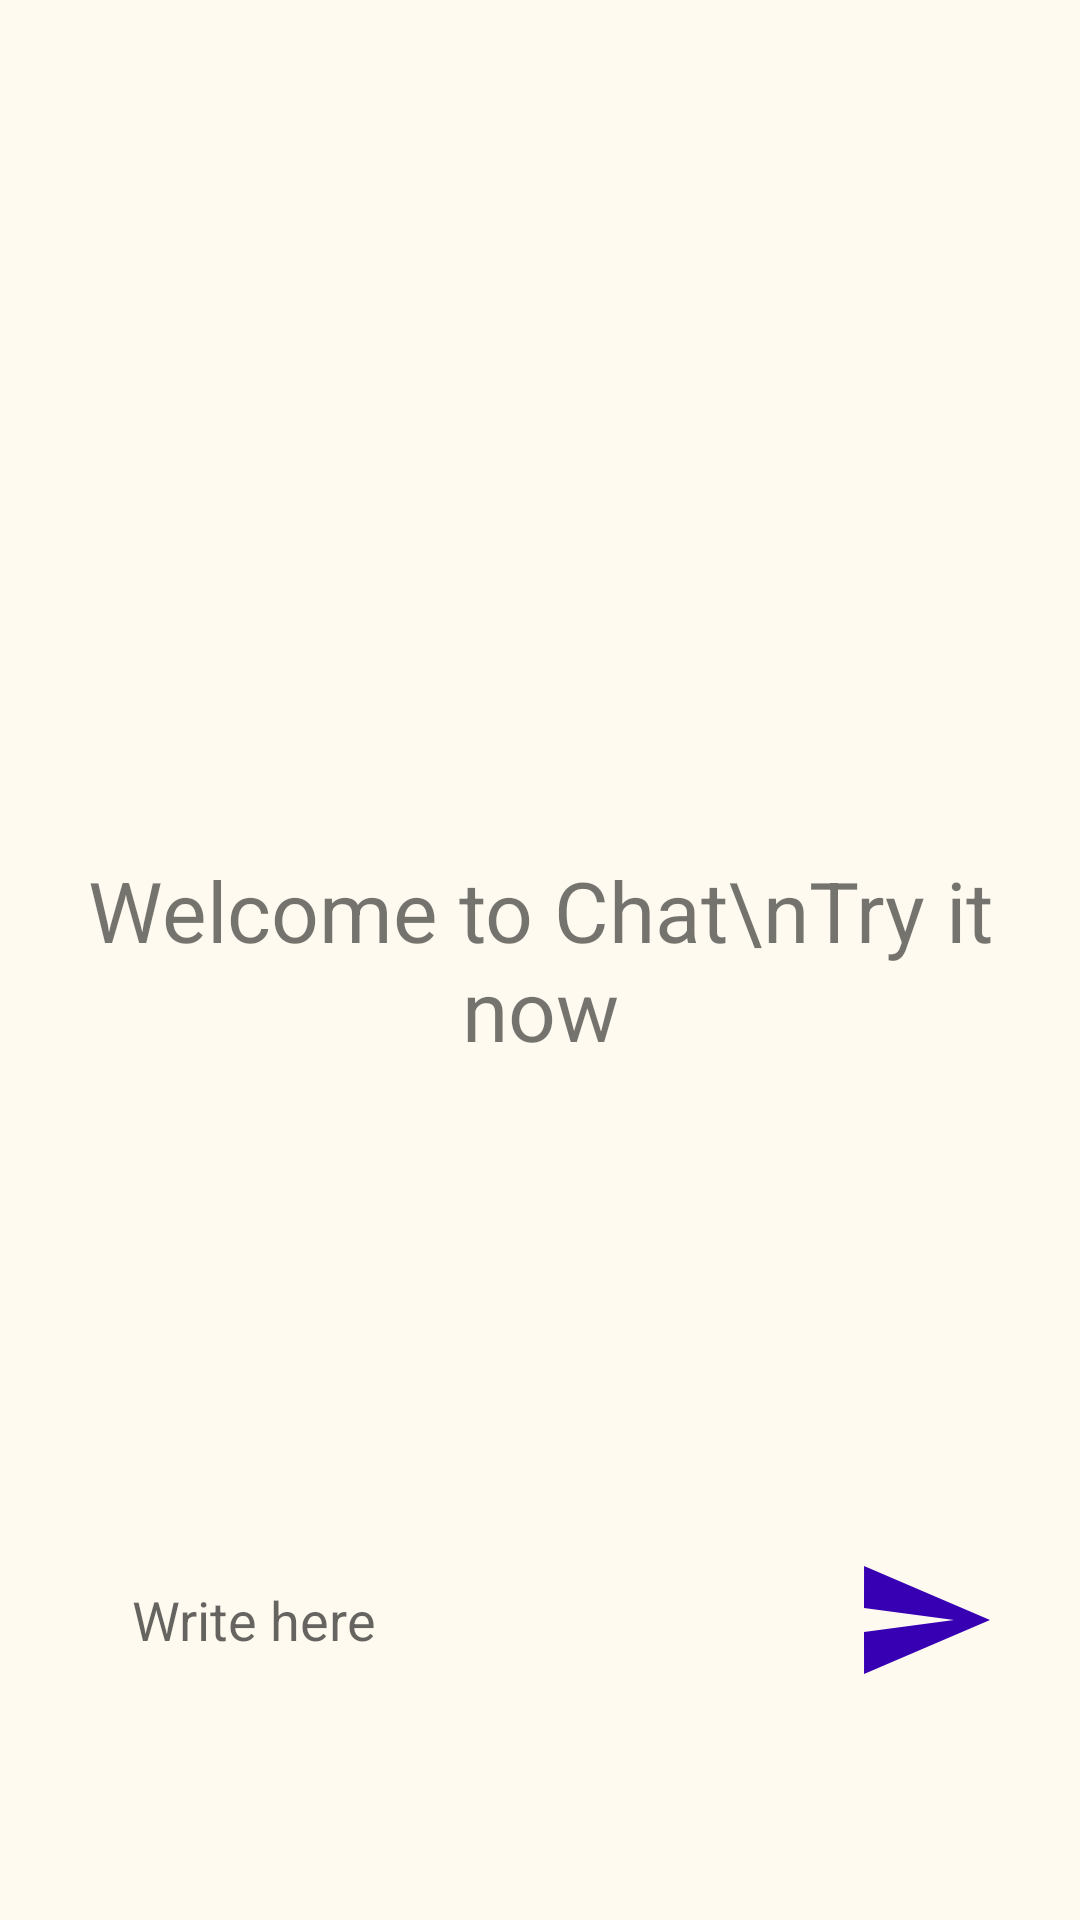

Where to tap for icons on this 1080 x 1920 app screen, as (x=x, y=y):
send: (x=927, y=1620)
